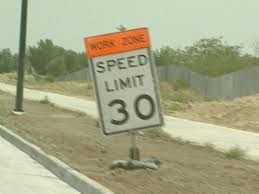sp30: (100, 91, 167, 126)
